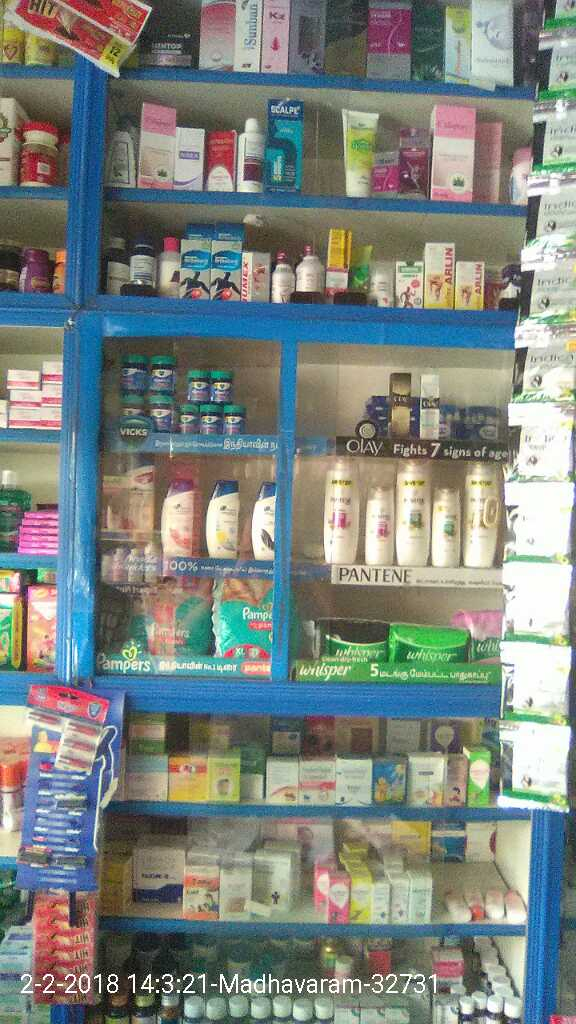vicks: (114, 348, 245, 436)
